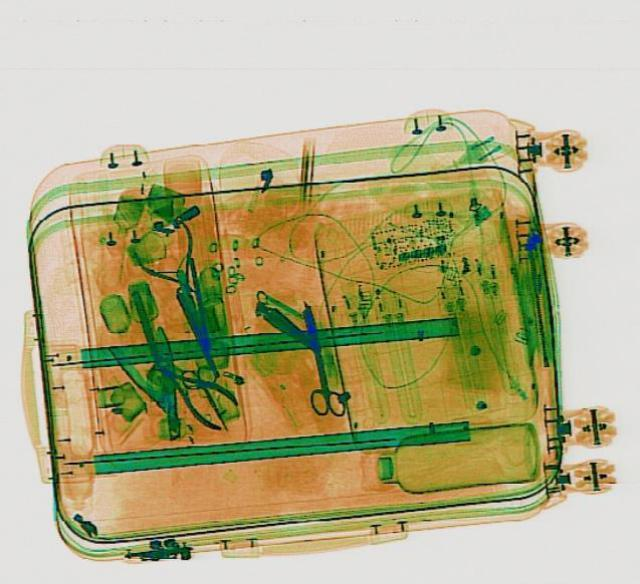Pliers: (140, 348, 250, 434)
Scissors: (290, 302, 348, 417)
